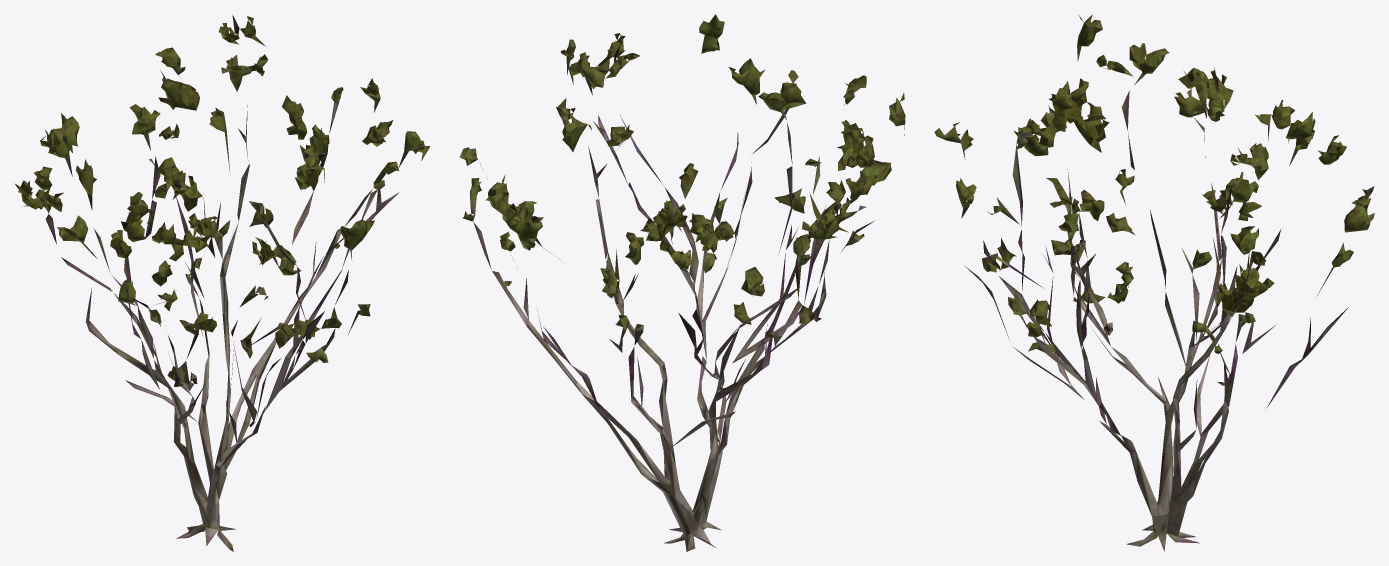
Rendered from creosote_bush.glb.
3 renders of one model, left to right at view 1: azimuth 30°, elevation 25°; view 2: azimuth 150°, elevation 25°; view 3: azimuth 270°, elevation 25°, orthographic. The views are drawn at different scales.
Parts seen in each view (by area): view 1: Mesh_0; view 2: Mesh_0; view 3: Mesh_0.
Boxes of the visible parts, x1,y1,x2,y2 form: Mesh_0: (15,15,430,551); Mesh_0: (459,14,905,551); Mesh_0: (934,14,1374,551).
Bounding box in the file's own units: 1.4 × 1.77 × 1.41.
1 material, 1 textured.
